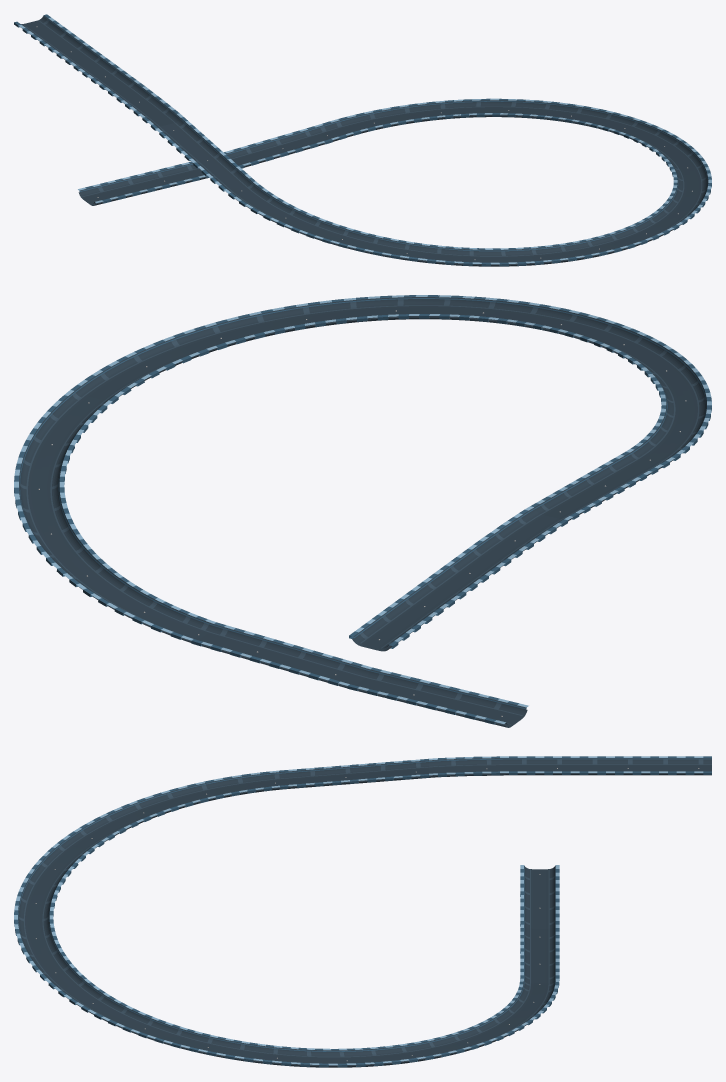
The model's file is blue_90_L_T3.fbx.
3 renders of one model, top to bottom at view 1: azimuth 30°, elevation 25°; view 2: azimuth 150°, elevation 25°; view 3: azimuth 270°, elevation 25°, orthographic. The views are drawn at different scales.
Visible parts, largest first — view 1: blue_90_L_T3; view 2: blue_90_L_T3; view 3: blue_90_L_T3.
Part boxes in pixels (left/top/right/bottom): blue_90_L_T3: left=14, top=14, right=711, bottom=266; blue_90_L_T3: left=14, top=295, right=711, bottom=727; blue_90_L_T3: left=14, top=756, right=711, bottom=1067.
Size of the model in its own units: 15969 by 3806 by 19992.
